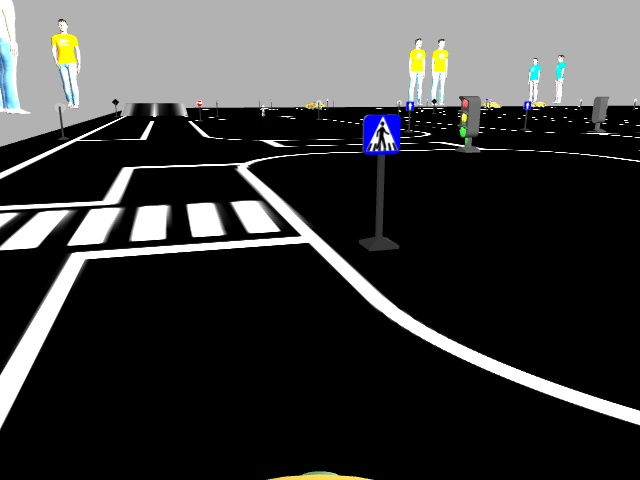Crosswalk: (360, 112, 402, 155)
TrafficLight: (457, 93, 481, 139)
